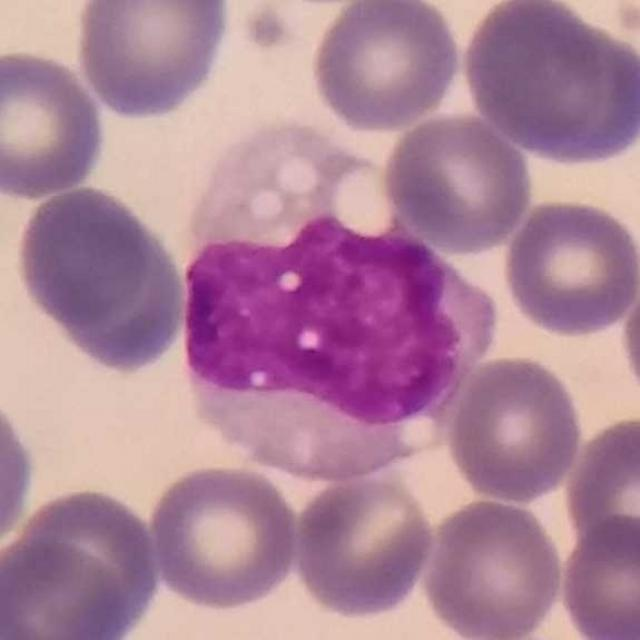mono: (178, 104, 503, 480)
